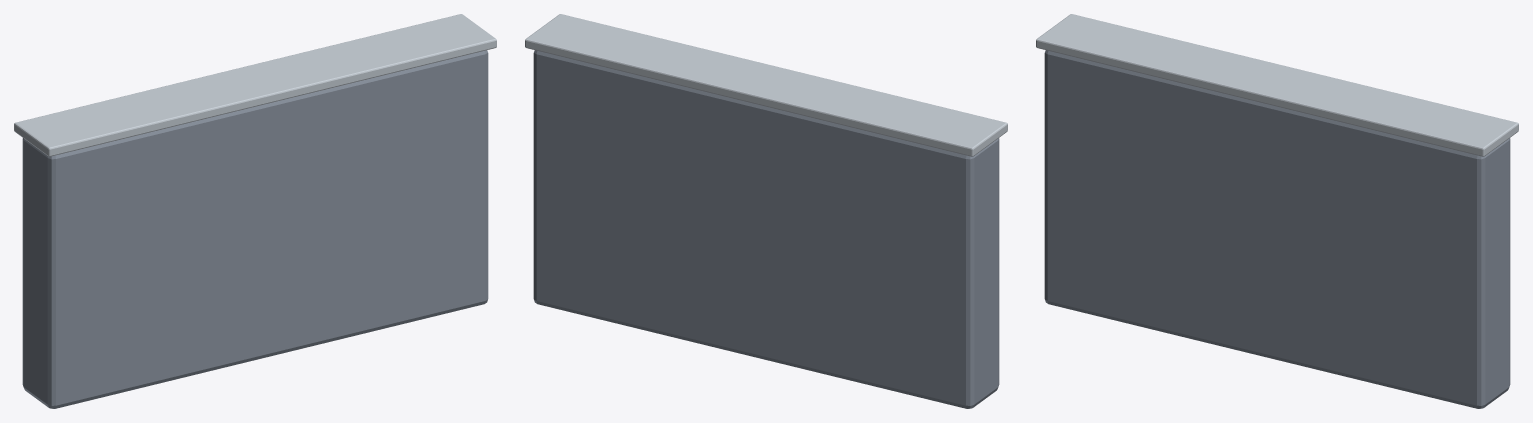
The model's file is Parkour_Wall.fbx.
3 renders of one model, left to right at view 1: azimuth 30°, elevation 25°; view 2: azimuth 150°, elevation 25°; view 3: azimuth 330°, elevation 25°, orthographic.
Parts seen in each view (by area): view 1: Wall; view 2: Wall; view 3: Wall.
Boxes of the visible parts, x1,y1,x2,y2 form: Wall: (14, 14, 496, 408); Wall: (525, 14, 1007, 408); Wall: (1036, 14, 1518, 408).
Bounding box in the file's own units: 5.1 × 2.9 × 0.7.
